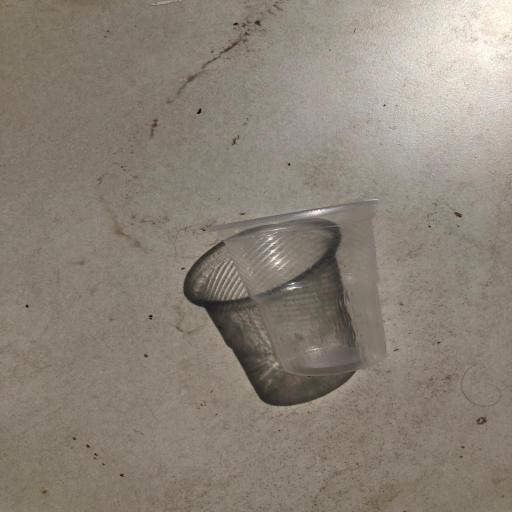waste: (200, 194, 429, 381)
